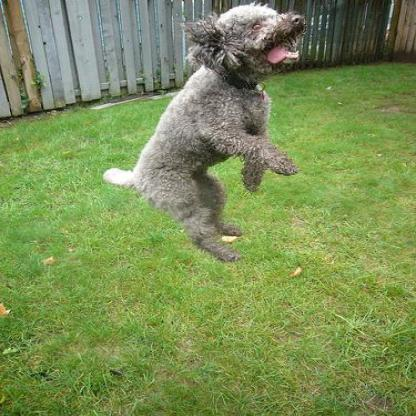miniature_poodle: (100, 0, 310, 266)
